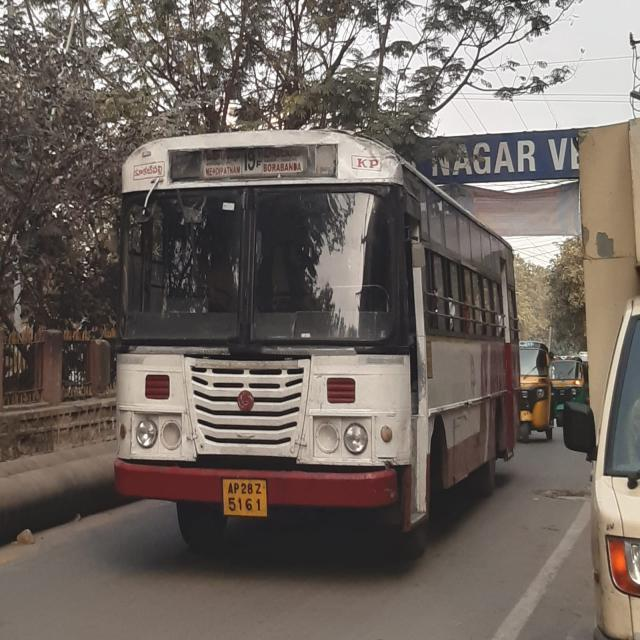Bus: (110, 122, 522, 546)
